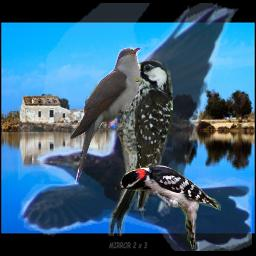Crow: (18, 3, 252, 251)
Cuckoo: (69, 47, 142, 186)
Woodpecker: (96, 60, 173, 236), (115, 164, 222, 251)
